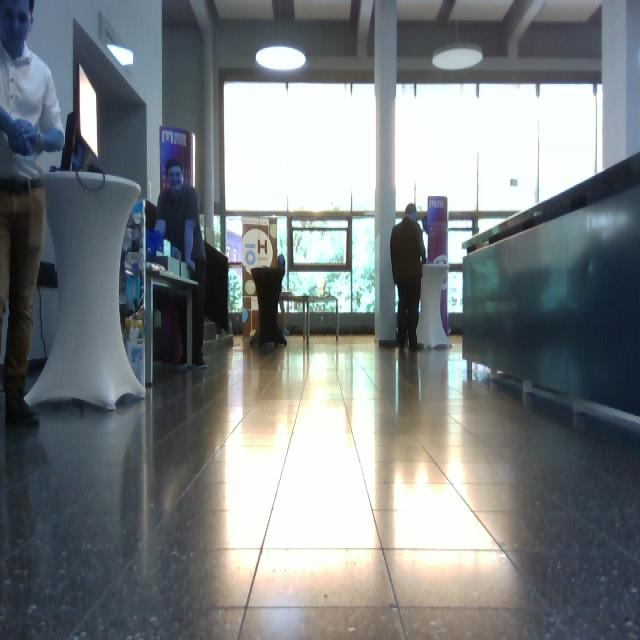door: (72, 17, 148, 384), (242, 217, 278, 340)
light bulb: (255, 1, 307, 72), (432, 1, 484, 72), (432, 43, 483, 71), (255, 45, 307, 72), (107, 44, 134, 66)
person: (1, 1, 66, 426), (154, 158, 208, 369), (390, 204, 427, 352)
pillar: (24, 169, 147, 412), (373, 1, 398, 348)
staircase: (461, 152, 639, 437)
tiled floor: (2, 332, 639, 638)
